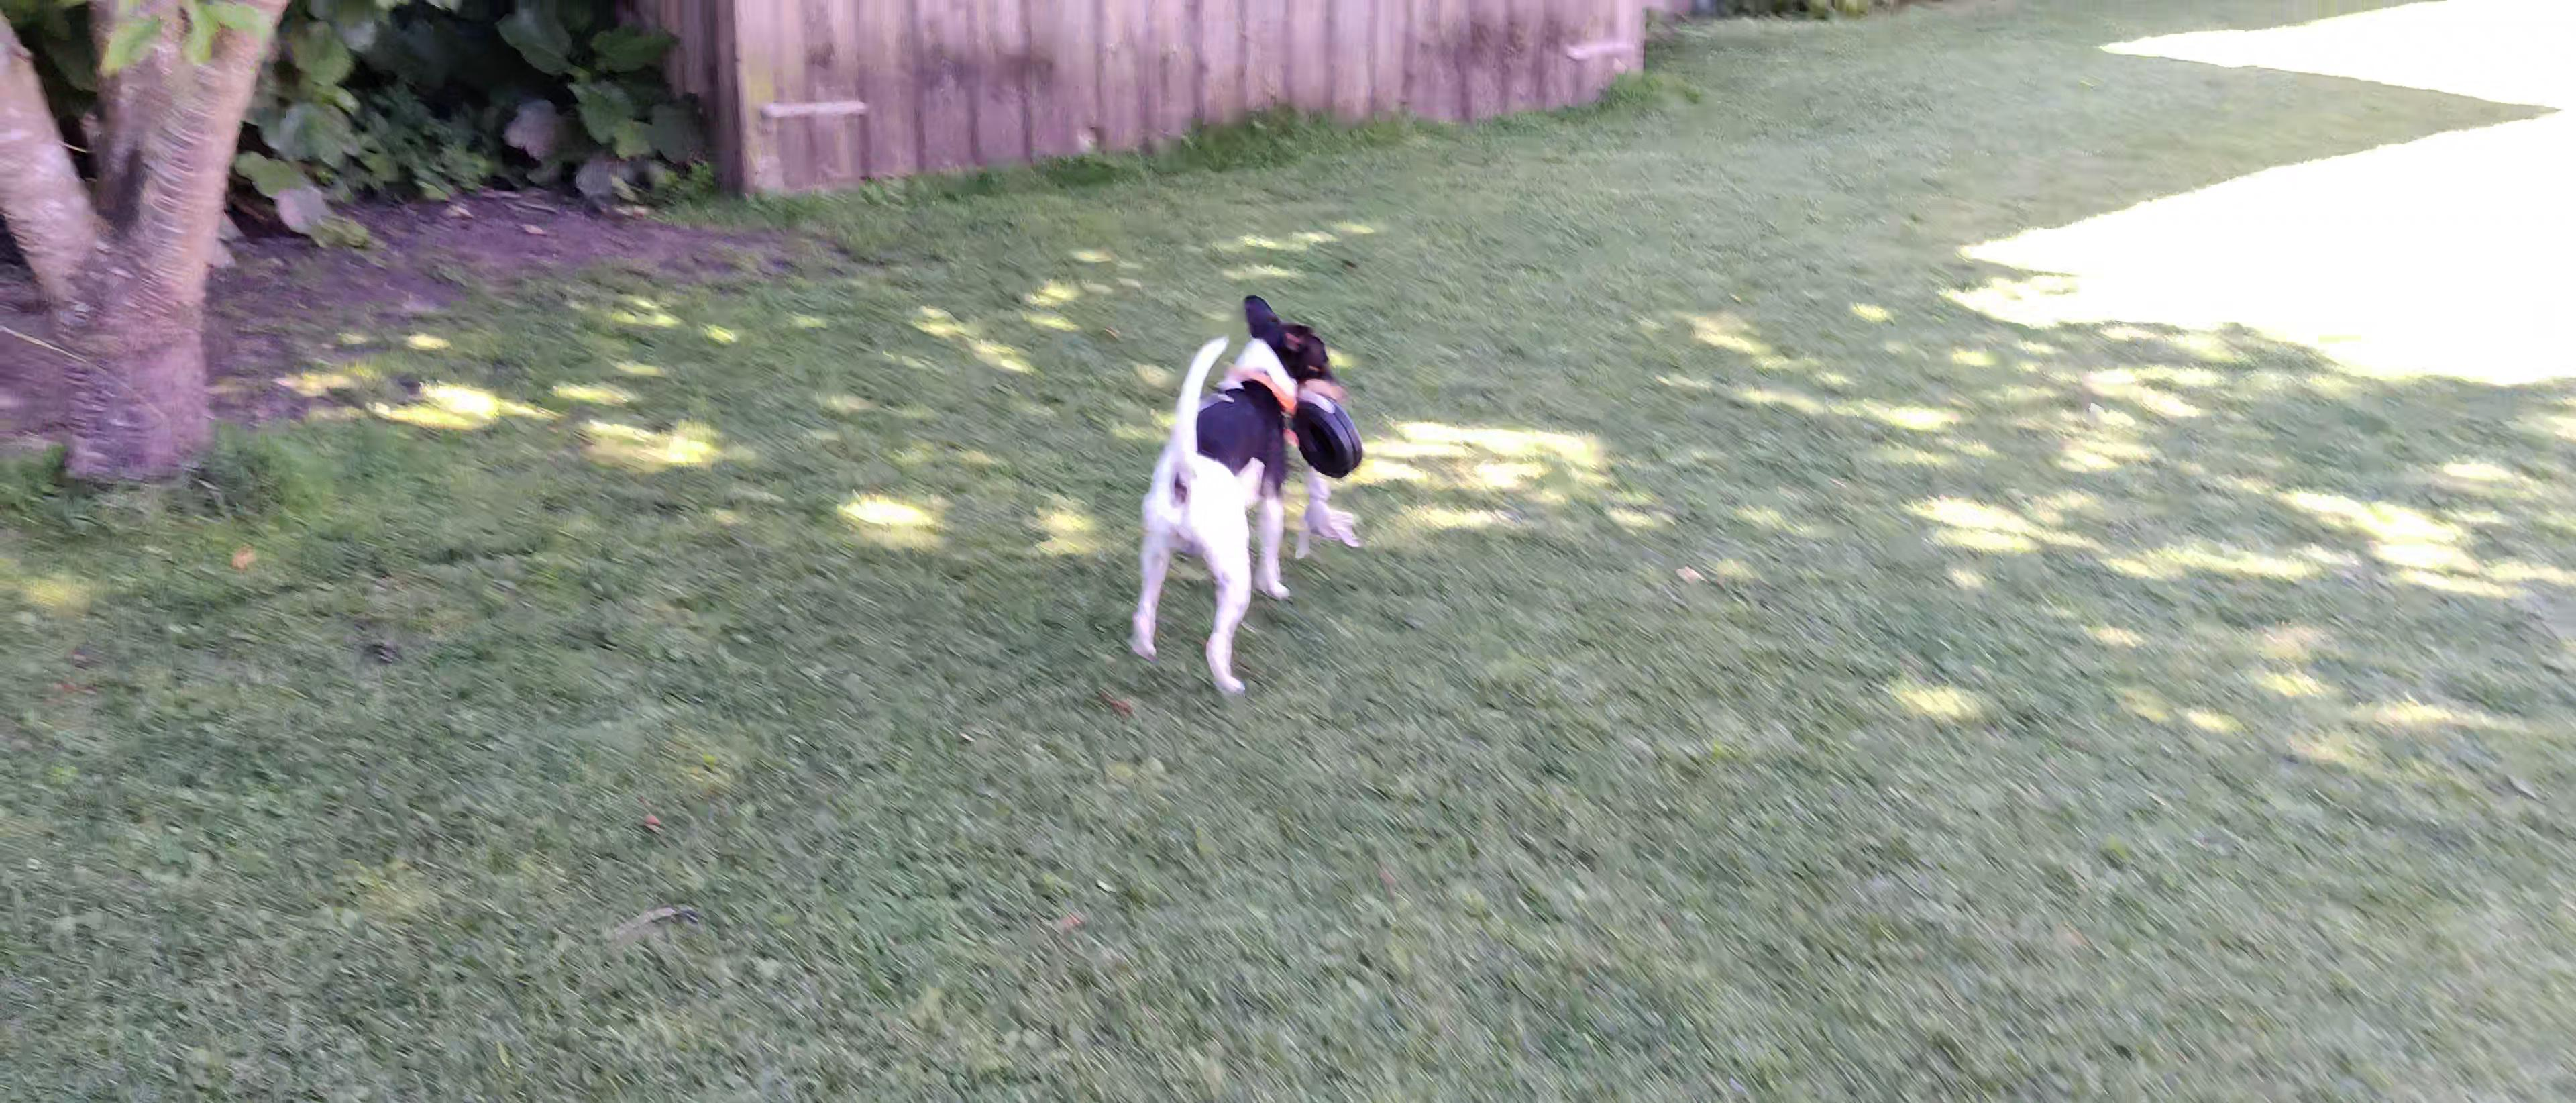Dog: (1127, 289, 1354, 702)
